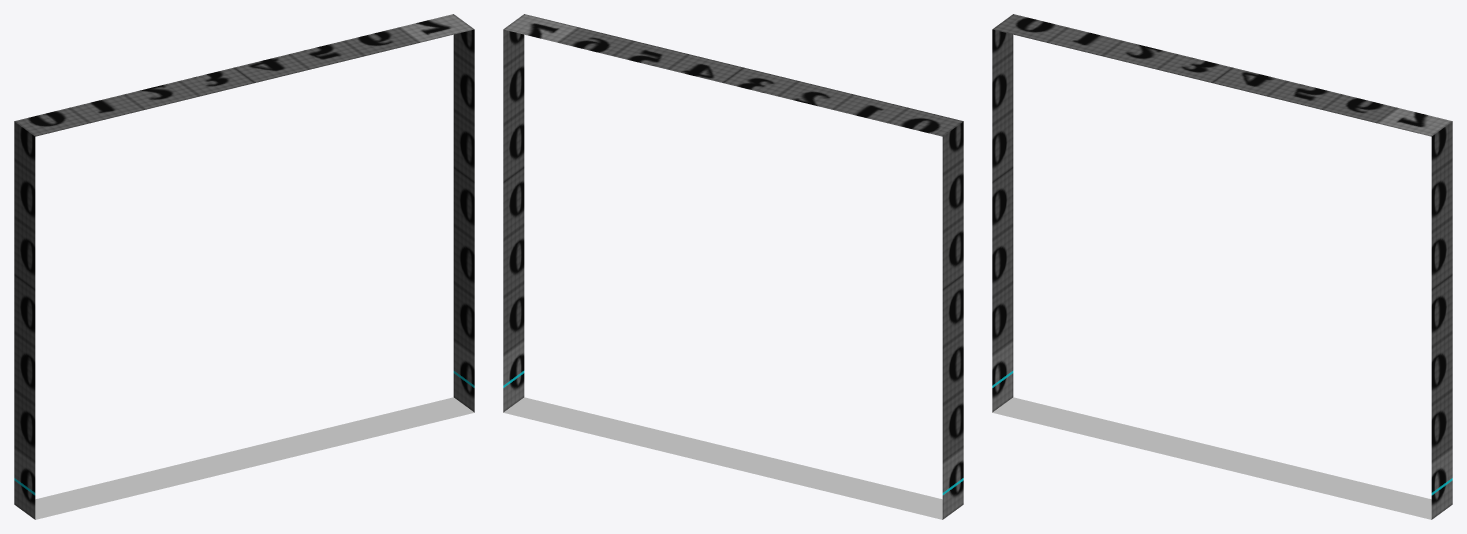
File: WallFrame300x250x25cm.FBX
The picture shows the model from 3 angles, left to right: view 1: azimuth 30°, elevation 25°; view 2: azimuth 150°, elevation 25°; view 3: azimuth 330°, elevation 25°; orthographic projection.
Visible parts, largest first — view 1: WallFrame300x250x25cm; view 2: WallFrame300x250x25cm; view 3: WallFrame300x250x25cm.
Part boxes in pixels (left/top/right/bottom): WallFrame300x250x25cm: left=14, top=14, right=474, bottom=519; WallFrame300x250x25cm: left=503, top=14, right=963, bottom=519; WallFrame300x250x25cm: left=992, top=14, right=1452, bottom=519.
Bounding box in the file's own units: 300 × 250 × 25.
